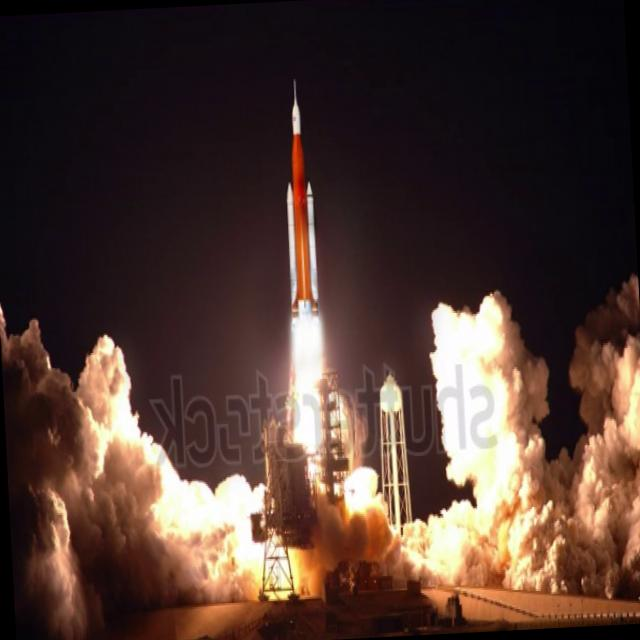rocket: (274, 73, 334, 437)
